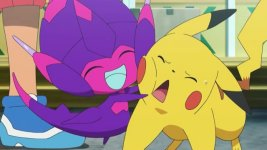pikachu: (117, 1, 267, 148)
